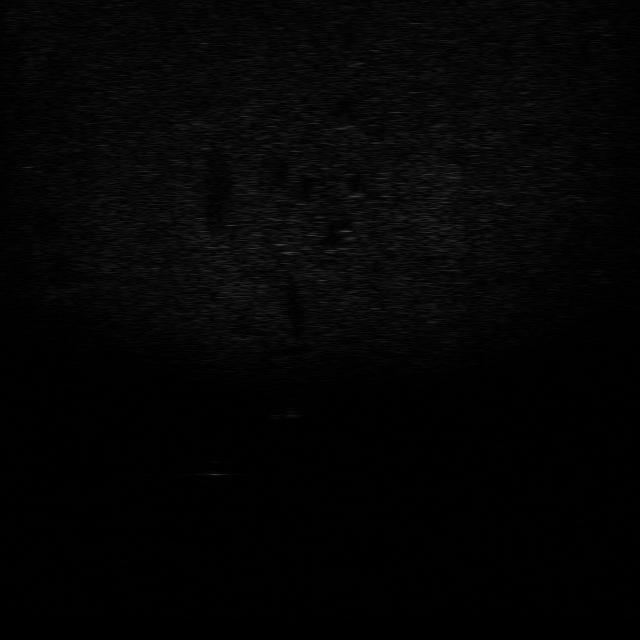ball: (190, 456, 245, 478)
human body: (265, 382, 305, 429)
